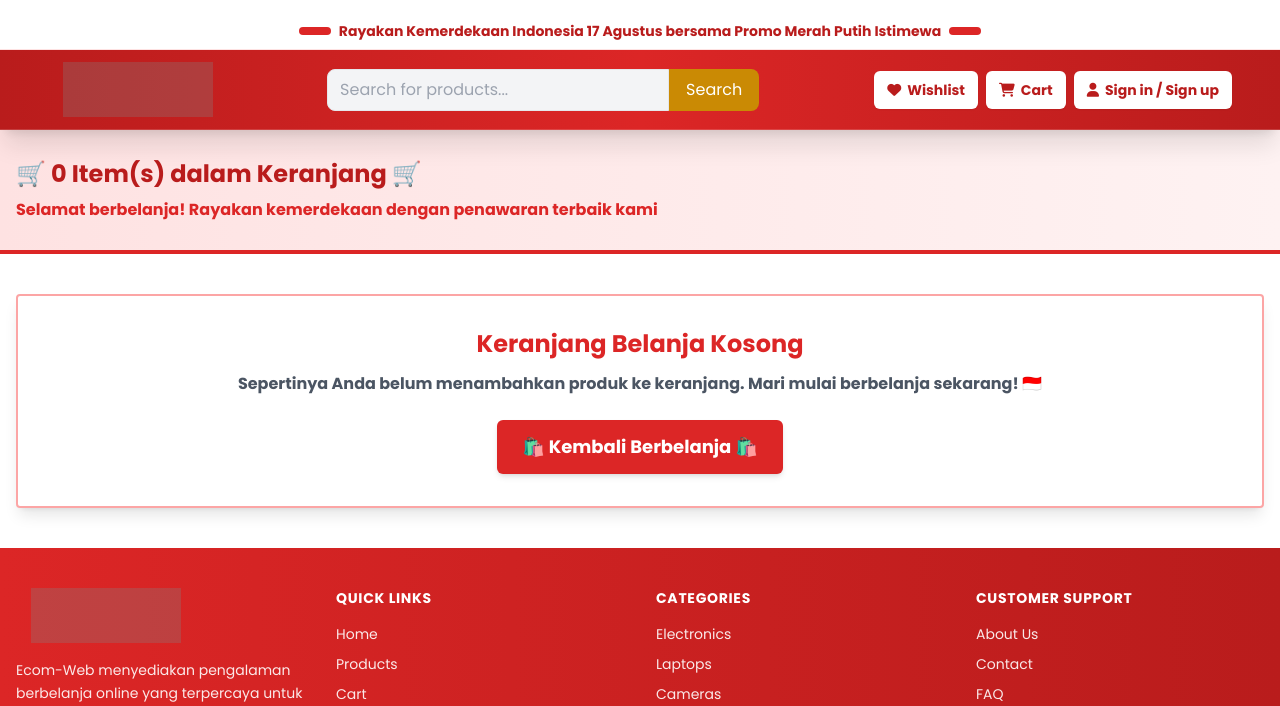
it: Cart Page › bisa kembali ke homepage dari halaman cart kosong
Click the link "🛍️ Kembali Berbelanja 🛍️" at (640, 447), box [497,420,782,474]
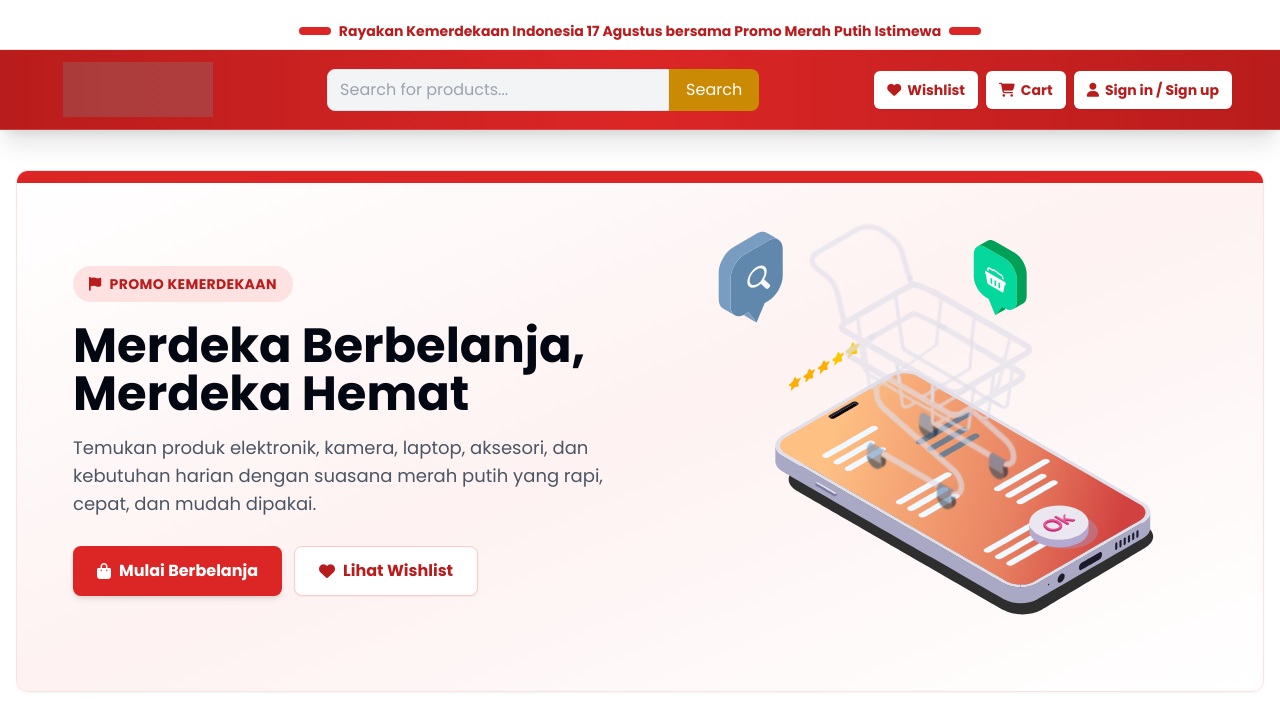
Expected: the link "Mulai Berbelanja" is shown, [73,546,282,596]
Expected: the text "Promo Kemerdekaan" is shown, [73,266,293,302]
